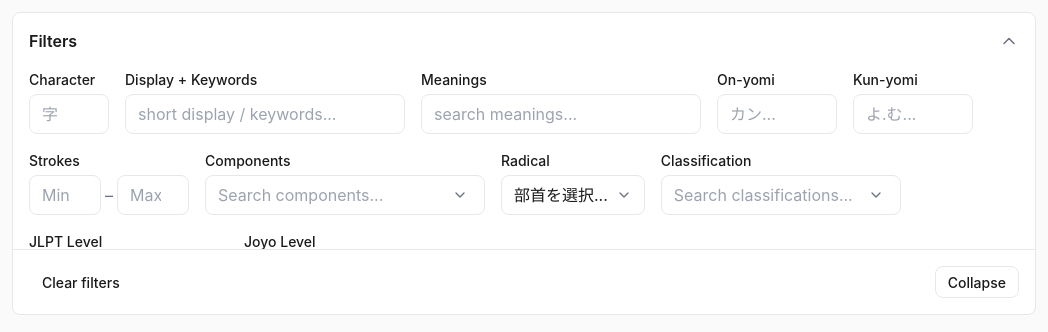
Test: KanjiListSectionFilters › hides clear filters button when collapsed
Expected: the button "Clear filters" is shown, [29,266,133,298]
Note: Collapse the filters
Click the button "Collapse" at (977, 282), box [935,266,1019,298]
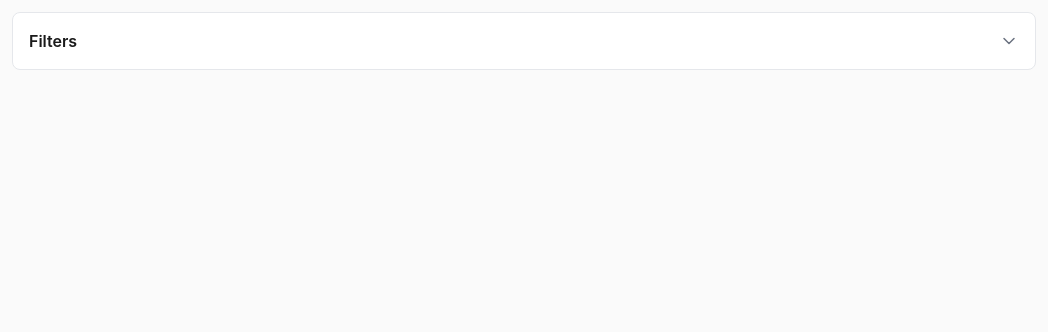
Now the button "Clear filters" is gone
